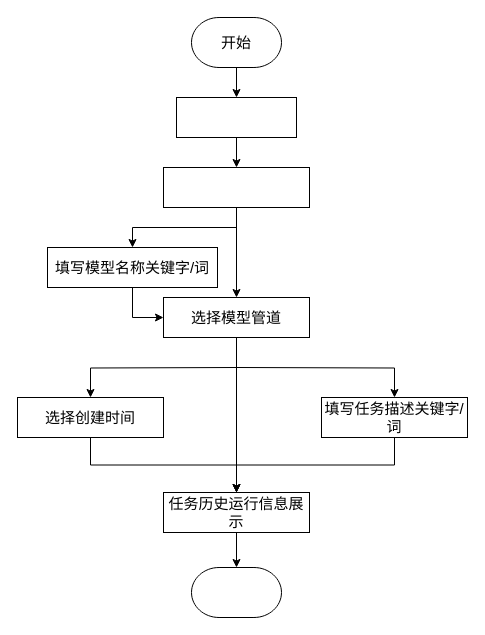
The diagram is 485 pixels wide and 635 high, and some of its shapes have lost their labels. Each missing label, with the centre of its shape:
点击 [CI WORKFLOW]: [236,187]
结束: [236,592]
进入系统主页面: [236,117]
